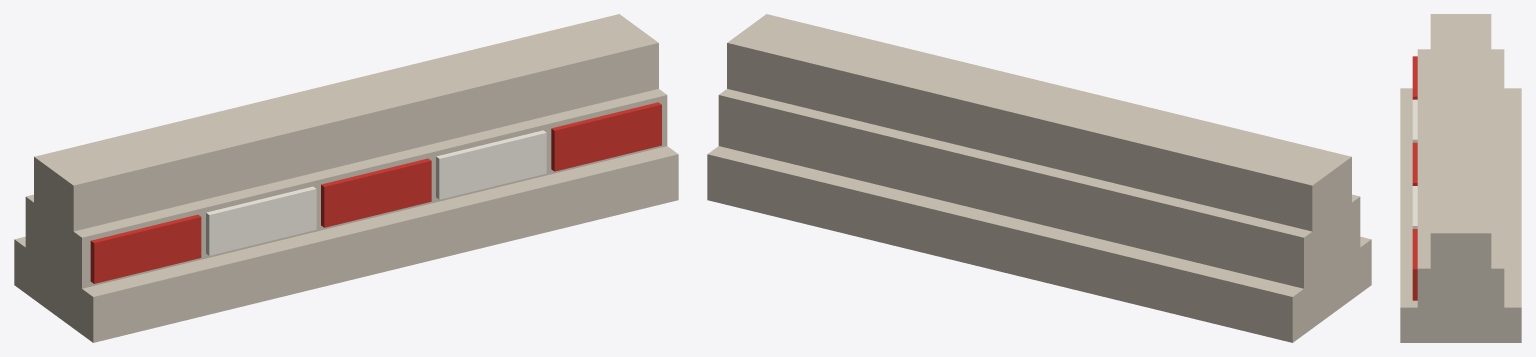
File: concreteBarrier.glb
3 views of the same model, side by side, from view 1: azimuth 30°, elevation 25°; view 2: azimuth 150°, elevation 25°; view 3: azimuth 270°, elevation 25° (orthographic). The views are drawn at different scales.
Visible parts, largest first — view 1: concreteBarrier_concrete, concreteBarrier_red, concreteBarrier_white; view 2: concreteBarrier_concrete; view 3: concreteBarrier_concrete, concreteBarrier_red, concreteBarrier_white.
Part boxes in pixels (x1,y1,x2,y2): concreteBarrier_concrete: [14, 14, 678, 342]; concreteBarrier_red: [90, 102, 661, 283]; concreteBarrier_white: [206, 130, 546, 255]; concreteBarrier_concrete: [707, 14, 1371, 342]; concreteBarrier_concrete: [1400, 14, 1521, 342]; concreteBarrier_red: [1412, 56, 1417, 300]; concreteBarrier_white: [1412, 99, 1417, 228].
Size of the model in its own units: 6 by 1.4 by 1.4.
